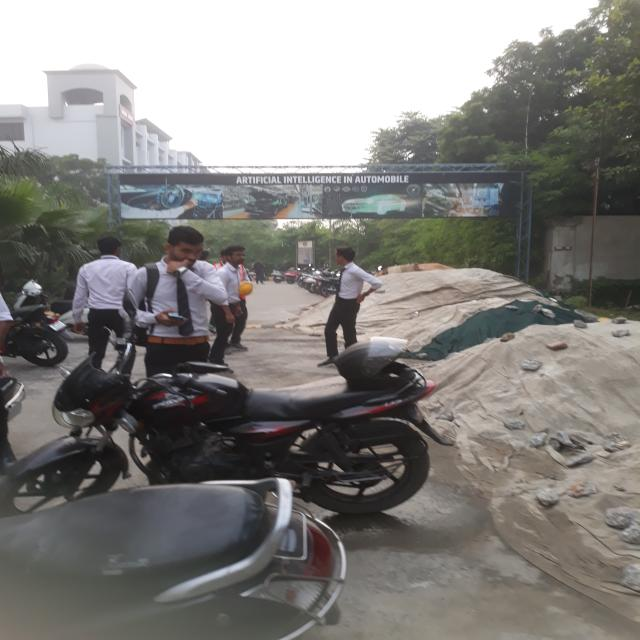unsafe: (135, 226, 222, 366), (76, 234, 132, 362), (324, 247, 368, 348), (216, 248, 247, 364), (250, 258, 266, 285)
